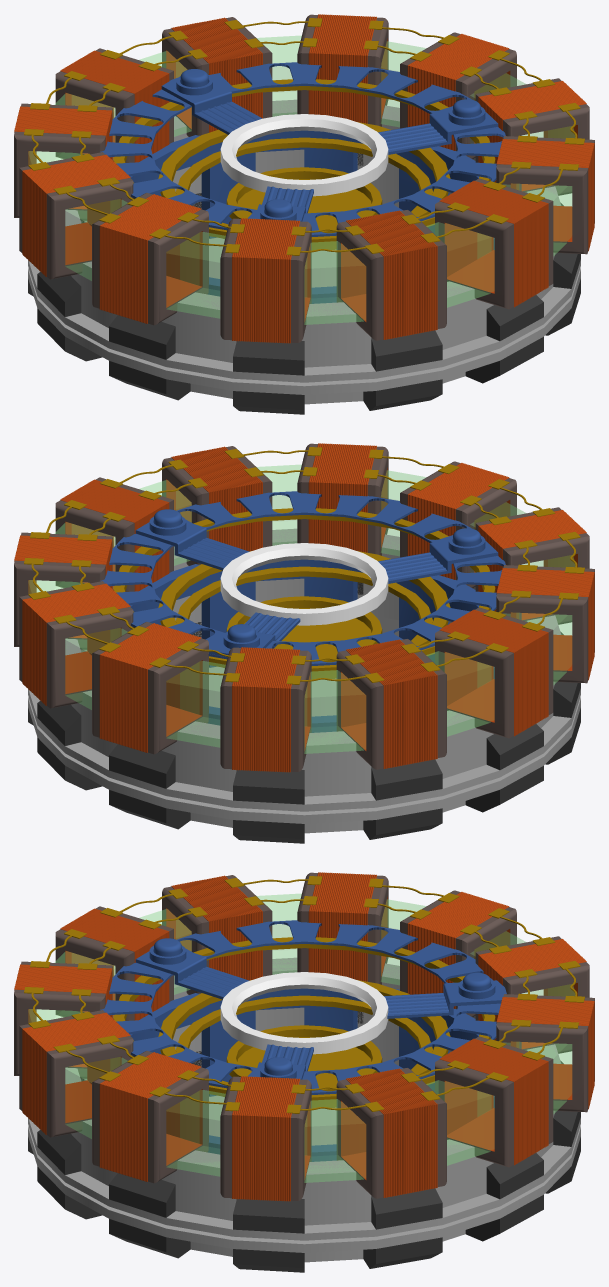
Rendered from ironman_arc.dae.
3 renders of one model, top to bottom at view 1: azimuth 30°, elevation 25°; view 2: azimuth 150°, elevation 25°; view 3: azimuth 270°, elevation 25°, orthographic.
Visible parts, largest first — view 1: Component_4_1 (×12), Component_4_2 (×12), Group34, Group1, Group5, Component_5_1 (×9), Group2, Component_5_2 (×9), Group7, Group6, Component_2_2, Component_2_1 (+12 smaller); view 2: Component_4_1 (×12), Component_4_2 (×12), Group34, Group1, Group5, Component_5_1 (×9), Component_5_2 (×9), Group2, Group7, Group6, Component_2_3, Component_2_2 (+12 smaller); view 3: Component_4_1 (×12), Component_4_2 (×12), Group34, Group1, Group5, Component_5_2 (×9), Component_5_1 (×9), Group2, Group7, Group6, Component_2_1, Component_2_3 (+12 smaller).
Boxes of the visible parts, bbox=[...] form: Component_4_1 (×12): bbox=[17, 15, 591, 342]; Component_4_2 (×12): bbox=[14, 14, 594, 343]; Group34: bbox=[28, 99, 580, 404]; Group1: bbox=[28, 35, 574, 324]; Group5: bbox=[100, 62, 505, 236]; Component_5_1 (×9): bbox=[87, 46, 521, 302]; Group2: bbox=[113, 79, 495, 250]; Component_5_2 (×9): bbox=[89, 46, 493, 303]; Group7: bbox=[130, 130, 494, 303]; Group6: bbox=[220, 114, 388, 196]; Component_2_2: bbox=[378, 99, 498, 154]; Component_2_1: bbox=[161, 69, 262, 134]; Component_4_1 (×12): bbox=[17, 444, 591, 771]; Component_4_2 (×12): bbox=[14, 443, 594, 772]; Group34: bbox=[28, 528, 580, 833]; Group1: bbox=[28, 464, 574, 753]; Group5: bbox=[100, 491, 505, 665]; Component_5_1 (×9): bbox=[87, 475, 521, 731]; Component_5_2 (×9): bbox=[89, 475, 493, 732]; Group2: bbox=[113, 508, 495, 679]; Group7: bbox=[130, 559, 494, 732]; Group6: bbox=[220, 543, 388, 625]; Component_2_3: bbox=[378, 528, 498, 583]; Component_2_2: bbox=[135, 509, 249, 570]; Component_4_1 (×12): bbox=[17, 873, 591, 1200]; Component_4_2 (×12): bbox=[14, 872, 594, 1201]; Group34: bbox=[28, 957, 580, 1262]; Group1: bbox=[28, 893, 574, 1182]; Group5: bbox=[100, 920, 500, 1094]; Component_5_2 (×9): bbox=[89, 904, 493, 1161]; Component_5_1 (×9): bbox=[87, 904, 521, 1160]; Group2: bbox=[113, 937, 495, 1108]; Group7: bbox=[130, 988, 494, 1161]; Group6: bbox=[220, 972, 388, 1054]; Component_2_1: bbox=[384, 972, 506, 1018]; Component_2_3: bbox=[135, 938, 249, 999].
Bounding box in the file's own units: 462 × 462 × 156.
